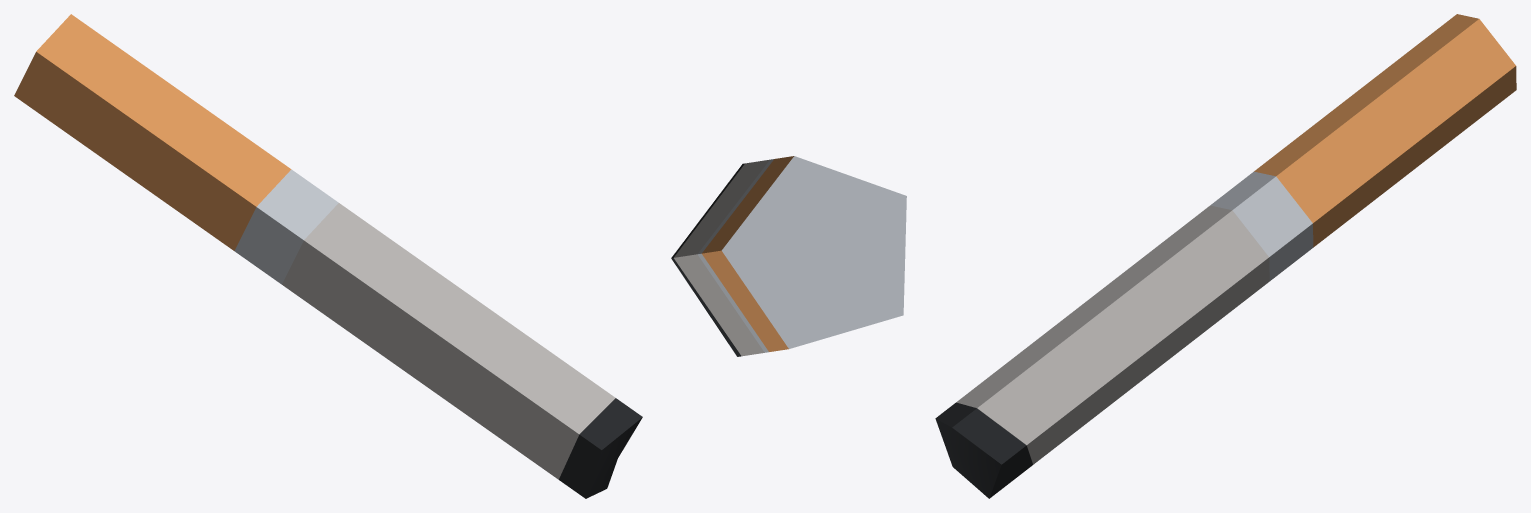
Rendered from SM_Chr_Attach_Cigarette_01.fbx.
The picture shows the model from 3 angles, left to right: view 1: azimuth 30°, elevation 25°; view 2: azimuth 150°, elevation 25°; view 3: azimuth 270°, elevation 25°; orthographic projection. The views are drawn at different scales.
Parts seen in each view (by area): view 1: SM_Chr_Attach_Cigarette_01; view 2: SM_Chr_Attach_Cigarette_01; view 3: SM_Chr_Attach_Cigarette_01.
Part boxes in pixels (x1,y1,x2,y2): SM_Chr_Attach_Cigarette_01: [14, 14, 642, 498]; SM_Chr_Attach_Cigarette_01: [671, 156, 906, 356]; SM_Chr_Attach_Cigarette_01: [935, 14, 1516, 498].
Size of the model in its own units: 6.98 by 6.5 by 9.88.
